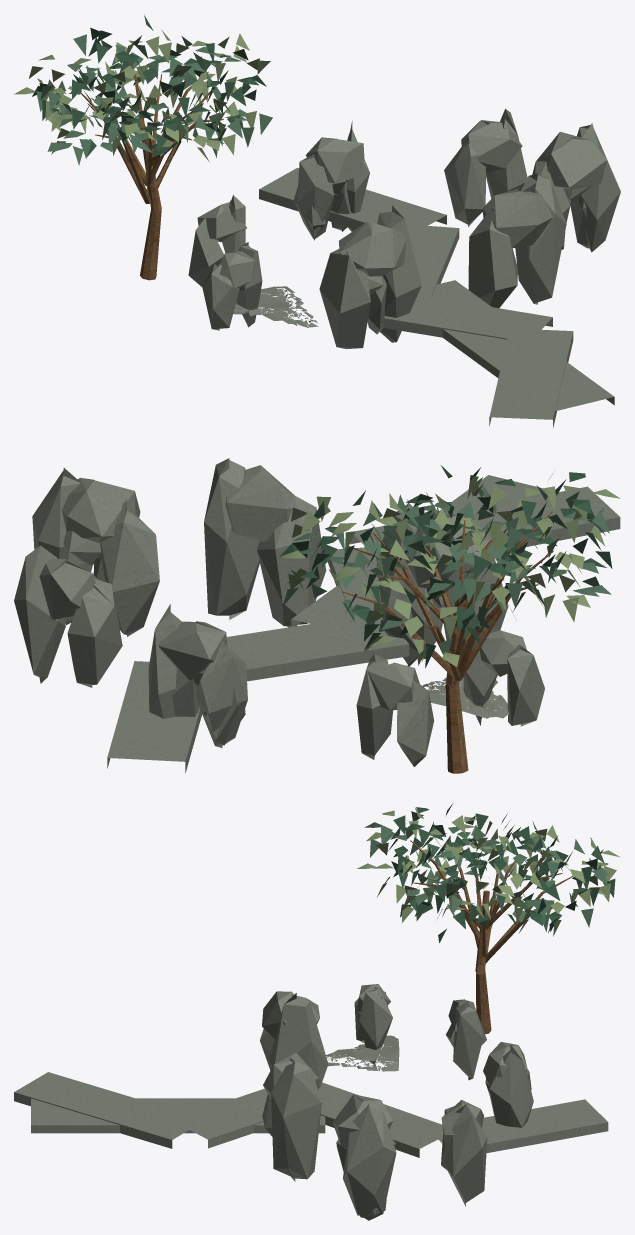
File: public_models_places-low_qujingtongyou.glb
3 renders of one model, top to bottom at view 1: azimuth 30°, elevation 25°; view 2: azimuth 150°, elevation 25°; view 3: azimuth 270°, elevation 25°, orthographic. The views are drawn at different scales.
Parts seen in each view (by area): view 1: qujingtongyou_stone, qujingtongyou_lightleaf, qujingtongyou_leaf, qujingtongyou_leafdark, qujingtongyou_wood, PolyHaven_coast_rocks_02.001; view 2: qujingtongyou_stone, qujingtongyou_lightleaf, qujingtongyou_leaf, qujingtongyou_leafdark, qujingtongyou_wood, PolyHaven_coast_rocks_02.001; view 3: qujingtongyou_stone, qujingtongyou_lightleaf, qujingtongyou_leafdark, qujingtongyou_leaf, qujingtongyou_wood, PolyHaven_coast_rocks_02.001.
Boxes of the visible parts, box(x1,y1,x2,y2) form: qujingtongyou_stone: box(188, 109, 620, 428); qujingtongyou_lightleaf: box(14, 29, 270, 161); qujingtongyou_leaf: box(32, 30, 272, 165); qujingtongyou_leafdark: box(39, 15, 258, 158); qujingtongyou_wood: box(81, 65, 223, 280); PolyHaven_coast_rocks_02.001: box(233, 286, 318, 327); qujingtongyou_stone: box(14, 458, 620, 773); qujingtongyou_lightleaf: box(281, 475, 620, 666); qujingtongyou_leaf: box(282, 474, 612, 662); qujingtongyou_leafdark: box(279, 465, 606, 668); qujingtongyou_wood: box(343, 512, 553, 773); PolyHaven_coast_rocks_02.001: box(422, 677, 509, 718); qujingtongyou_stone: box(14, 984, 608, 1220); qujingtongyou_lightleaf: box(357, 807, 620, 936); qujingtongyou_leafdark: box(364, 803, 615, 932); qujingtongyou_leaf: box(370, 811, 609, 942); qujingtongyou_wood: box(410, 840, 573, 1034); PolyHaven_coast_rocks_02.001: box(326, 1035, 399, 1071).
Size of the model in its own units: 24.2 by 10.72 by 26.83.
Materials: 5 (2 with a texture image).
